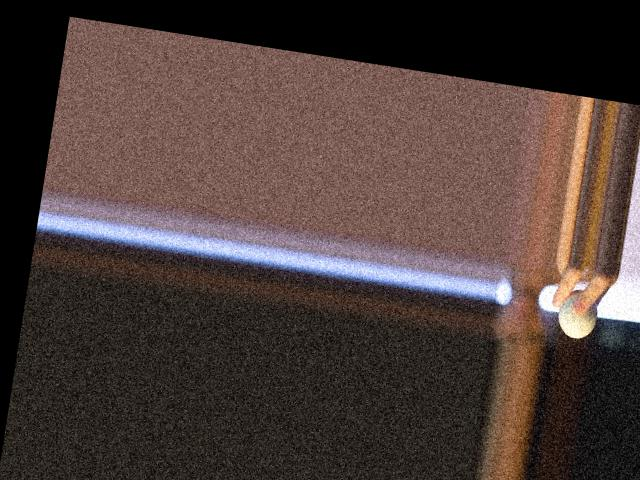egg: (554, 286, 600, 340)
